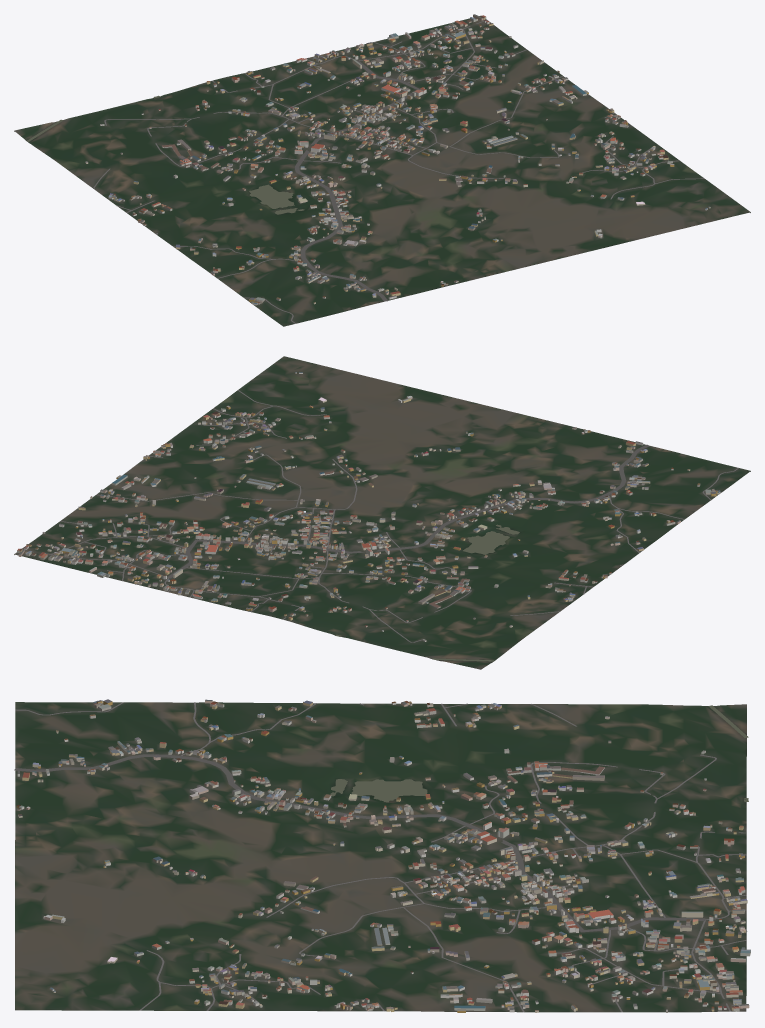
The picture shows the model from 3 angles, top to bottom: view 1: azimuth 30°, elevation 25°; view 2: azimuth 150°, elevation 25°; view 3: azimuth 270°, elevation 25°; orthographic projection. The views are drawn at different scales.
Parts seen in each view (by area): view 1: ground, buildings, roads, water; view 2: ground, buildings, roads, water; view 3: ground, buildings, roads, water.
Boxes of the visible parts, bbox=[...] form: ground: bbox=[14, 15, 750, 326]; buildings: bbox=[85, 14, 710, 305]; roads: bbox=[93, 19, 704, 323]; water: bbox=[26, 95, 304, 214]; ground: bbox=[14, 356, 750, 669]; buildings: bbox=[17, 372, 720, 641]; roads: bbox=[24, 390, 738, 642]; water: bbox=[335, 524, 519, 661]; ground: bbox=[15, 702, 746, 1012]; buildings: bbox=[16, 699, 750, 1012]; roads: bbox=[14, 702, 747, 1012]; water: bbox=[330, 705, 748, 802].
Size of the model in its own units: 1408 by 22.19 by 1412.
